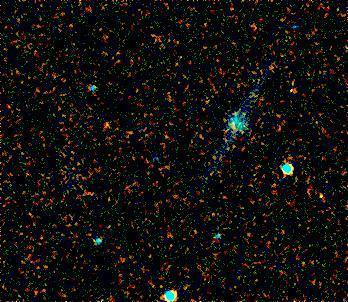star: (91, 109, 121, 139)
